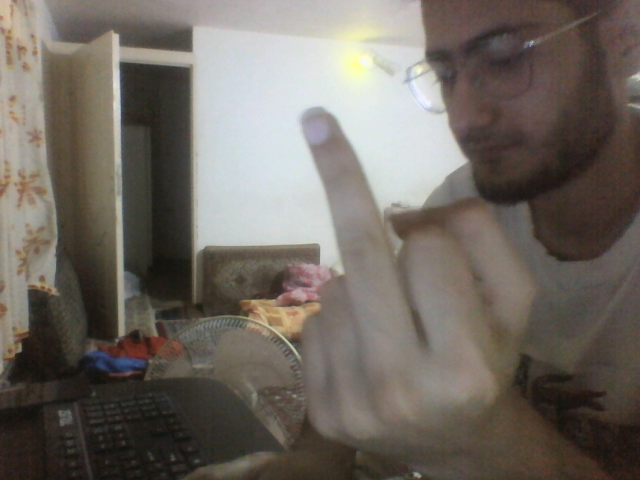fuck: (297, 109, 536, 438)
sorat: (413, 1, 637, 199)
